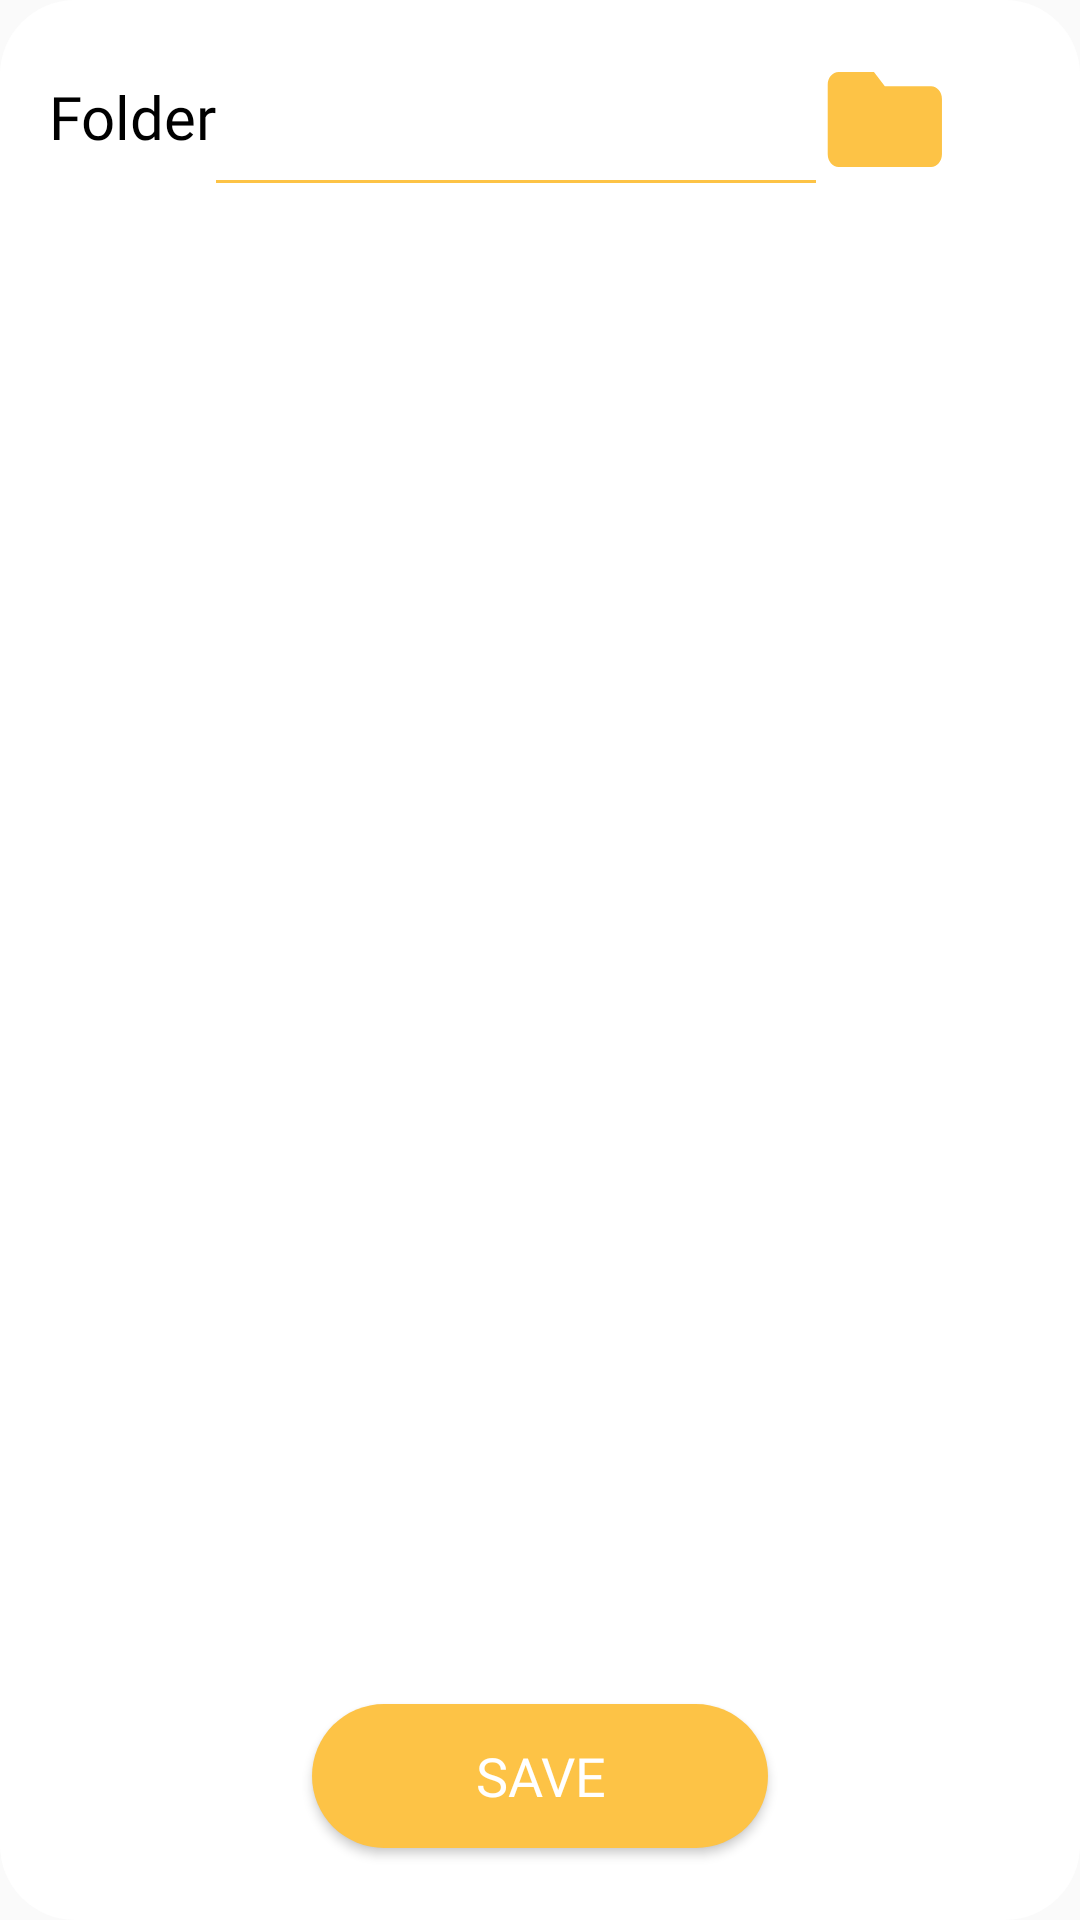

Where to tap for icons on this 1080 x 1920 app screen, as (x,y):
directory: (884,119)
